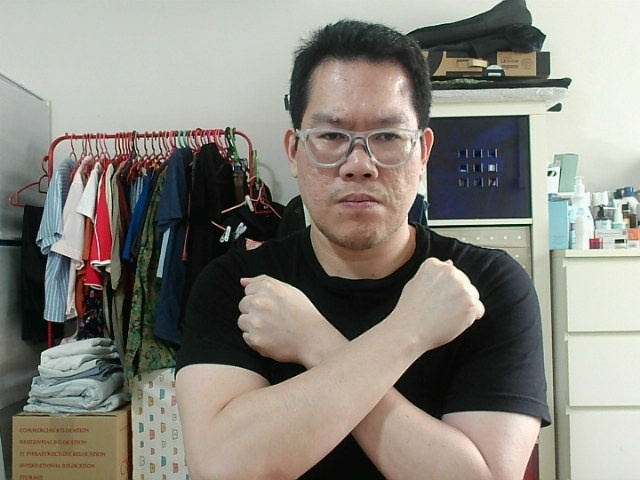love: (405, 264, 482, 332)
